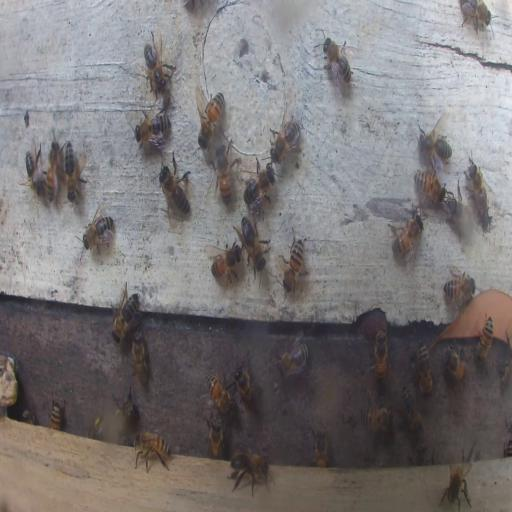bee: (157, 152, 192, 216), (229, 447, 273, 496), (389, 202, 424, 260), (440, 456, 474, 512), (239, 215, 270, 275), (466, 152, 490, 227), (320, 34, 352, 90), (142, 37, 174, 92), (112, 284, 142, 342), (269, 112, 301, 166), (243, 162, 276, 214), (62, 138, 87, 204), (197, 87, 224, 147), (210, 239, 242, 289), (131, 432, 170, 472), (233, 360, 260, 413), (418, 122, 452, 164), (282, 230, 305, 292), (133, 108, 170, 144), (83, 210, 115, 251), (276, 335, 308, 375), (447, 191, 473, 240), (443, 269, 475, 306), (206, 374, 234, 415), (414, 168, 445, 204), (401, 385, 423, 435), (460, 1, 494, 32), (44, 138, 61, 200), (132, 330, 150, 386), (413, 343, 432, 394), (216, 148, 233, 203), (112, 385, 137, 422), (361, 403, 392, 432), (444, 346, 469, 381), (476, 316, 494, 362), (374, 328, 388, 384), (24, 146, 44, 184), (312, 426, 329, 466), (208, 416, 223, 458), (89, 417, 110, 442), (498, 355, 512, 392), (49, 401, 62, 431), (412, 444, 430, 465), (20, 407, 36, 423)
